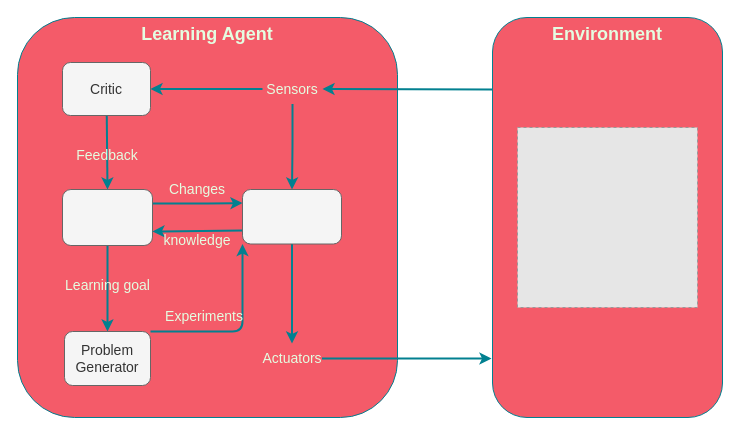
This 740x435 diagram has some shape labels left out. Grey dashed boxes stand in for pictures. The centre of each missing label's shape, as x and y in pixels:
"Learning Element" goes at (x=107, y=217).
"Performance Element" goes at (x=292, y=216).
